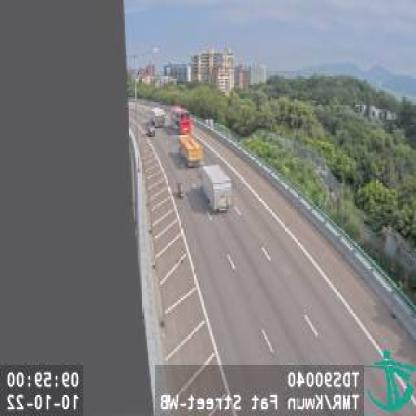Bus: (170, 106, 191, 135)
Truck: (198, 164, 232, 212), (176, 136, 201, 168)
